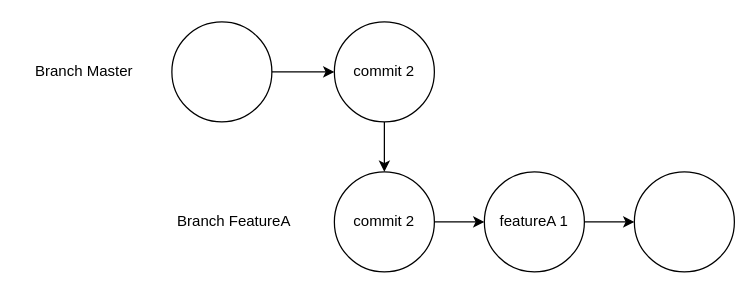
This 756x294 diagram has some shape labels left out. Here are the shapes that lost their labels. From the top down, the centre of each, then its label:
At point (221, 71): "commit 1".
At point (683, 221): "featureA 2".
